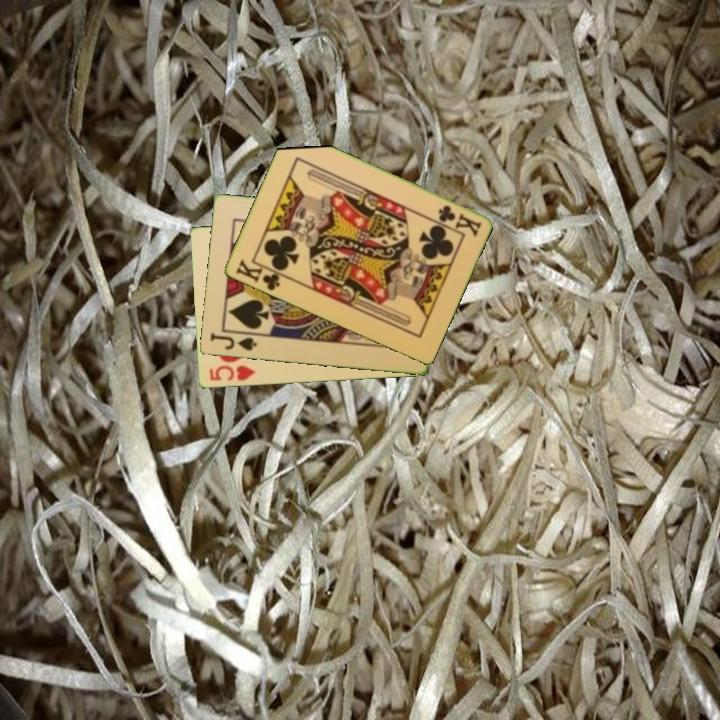5h: (206, 362, 258, 384)
Js: (206, 329, 260, 354)
Kc: (232, 255, 288, 294), (434, 201, 484, 239)
